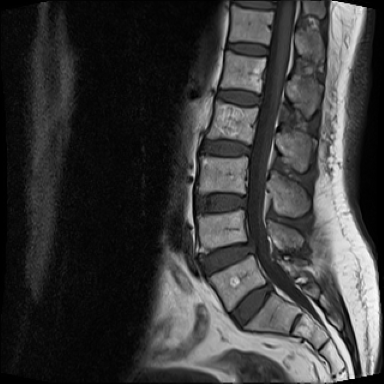Lumbar Disc Bulge (LDB): (189, 233, 258, 282), (224, 279, 276, 334), (189, 185, 250, 218)
Normal IVD: (195, 135, 253, 163), (210, 86, 262, 111), (222, 38, 270, 60), (230, 2, 278, 13)
Spinal Stenosis (SS): (245, 235, 260, 260), (239, 191, 251, 213)
